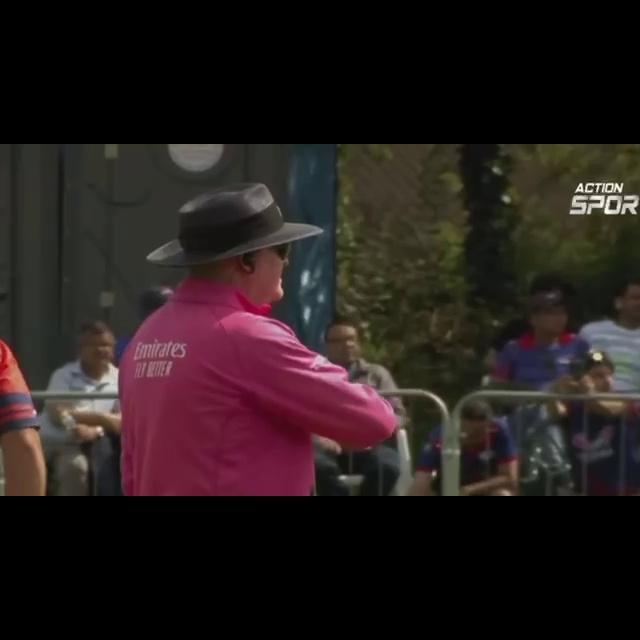umpire: (122, 167, 411, 496)
